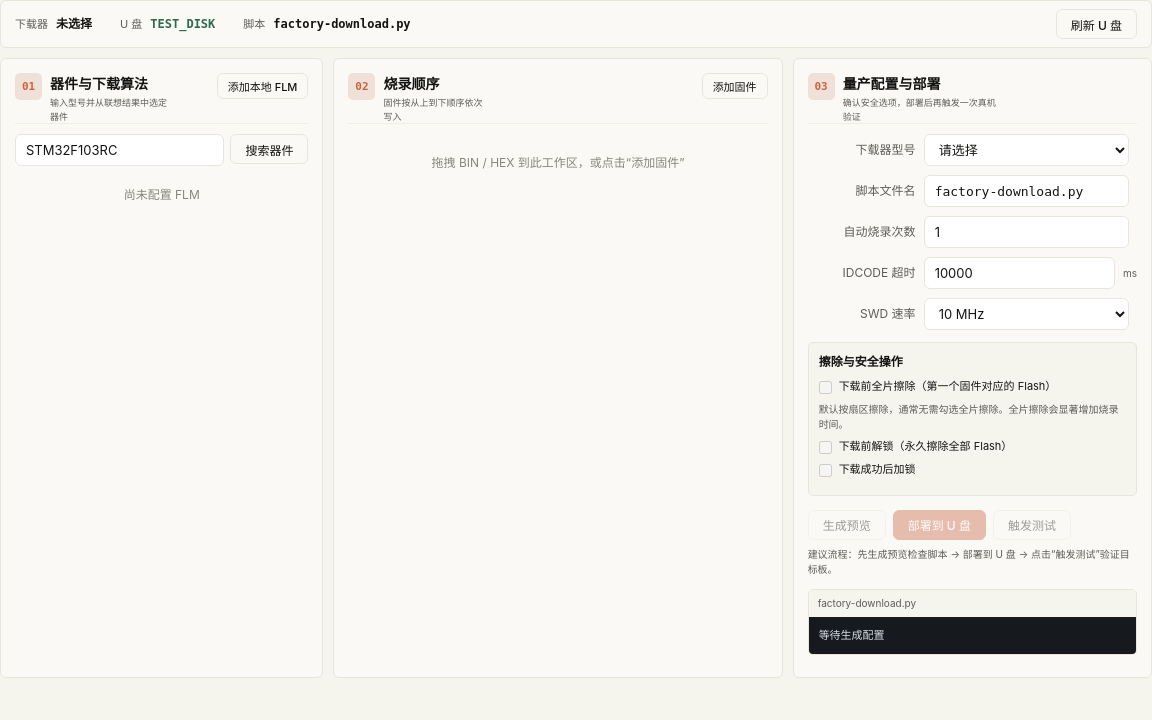
Test: OfflineFlashView › requires a manual model selection and forces the V2/V3 script name
This screenshot has width=1152, height=720.
Select "V3" in the dropdown with test id "offline-model" at x=1026, y=150, box [924,134,1129,166]
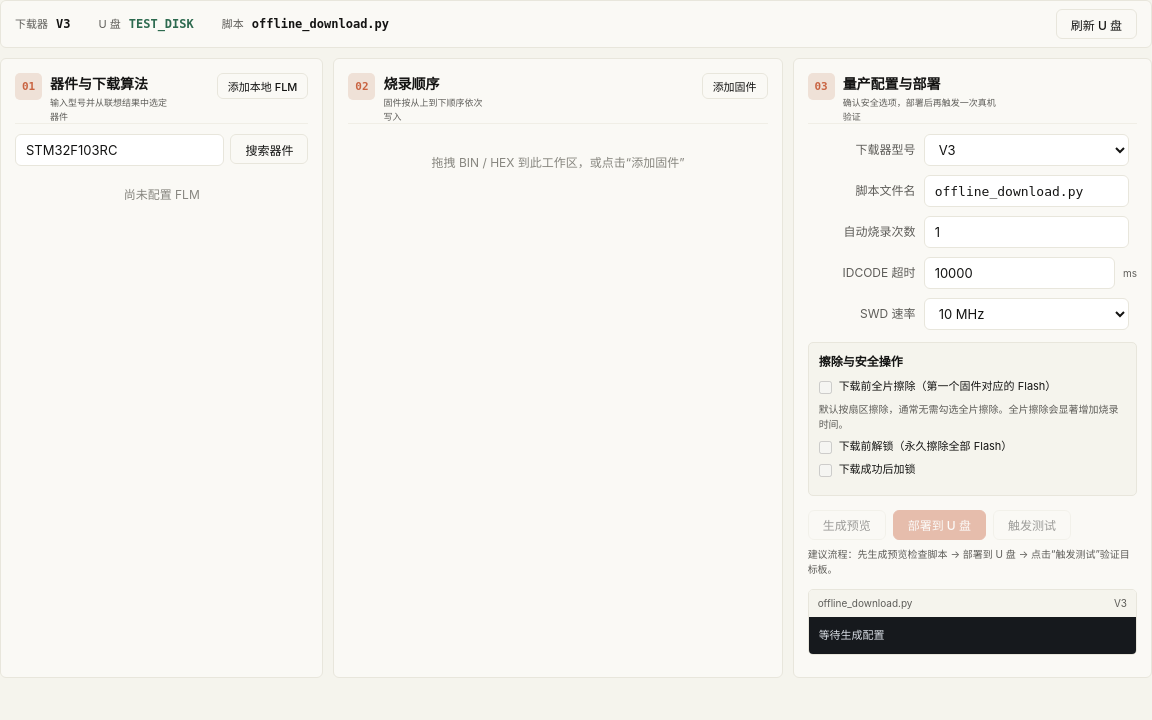
expect the field with test id "offline-script-name" is disabled: met, box [924,175,1129,207]
expect the text "offline_download.py" is shown: met, box [252,15,389,33]
expect the field with test id "offline-script-name" holds "offline_download.py": met, box [924,175,1129,207]
